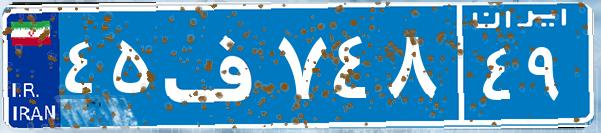4: (330, 28, 385, 110), (57, 26, 110, 107), (475, 38, 525, 113)
5: (110, 28, 158, 105)
7: (273, 28, 330, 110)
8: (385, 28, 445, 110)
9: (525, 38, 570, 115)
ف: (158, 15, 273, 115)
